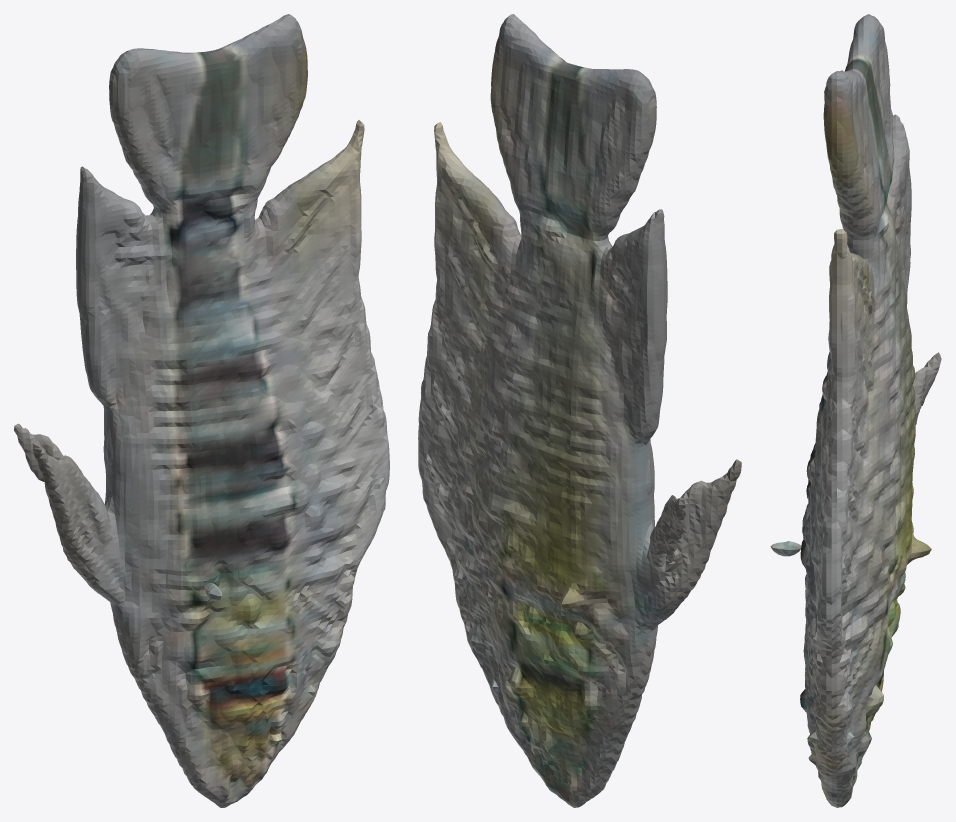
File: amphilophus-labiatus.glb
3 views of the same model, side by side, from view 1: azimuth 30°, elevation 25°; view 2: azimuth 150°, elevation 25°; view 3: azimuth 270°, elevation 25° (orthographic).
Visible parts, largest first — view 1: world; view 2: world; view 3: world.
Boxes of the visible parts, left/top/right/bottom form: world: left=14, top=14, right=389, bottom=807; world: left=418, top=14, right=741, bottom=807; world: left=770, top=14, right=941, bottom=807.
Bounding box in the file's own units: 0.491 × 1.08 × 0.2182.
